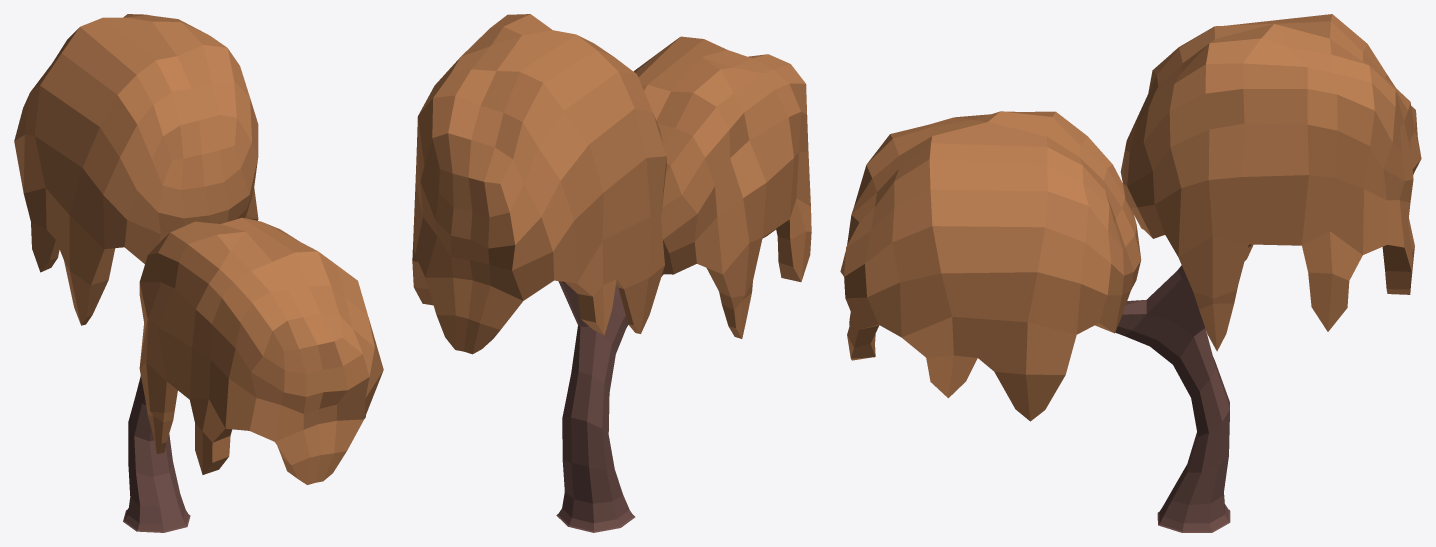
File: willow_autumn_5.glb
3 renders of one model, left to right at view 1: azimuth 30°, elevation 25°; view 2: azimuth 150°, elevation 25°; view 3: azimuth 270°, elevation 25°, orthographic. The views are drawn at different scales.
Visible parts, largest first — view 1: Willow_Autumn_5; view 2: Willow_Autumn_5; view 3: Willow_Autumn_5.
Part boxes in pixels (left/top/right/bottom): Willow_Autumn_5: left=14, top=14, right=383, bottom=532; Willow_Autumn_5: left=412, top=14, right=811, bottom=532; Willow_Autumn_5: left=840, top=14, right=1421, bottom=532.
Bounding box in the file's own units: 1.01 × 2.42 × 2.49.
